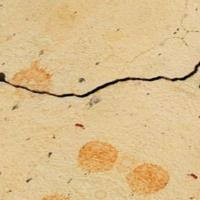crack: (0, 57, 199, 109)
